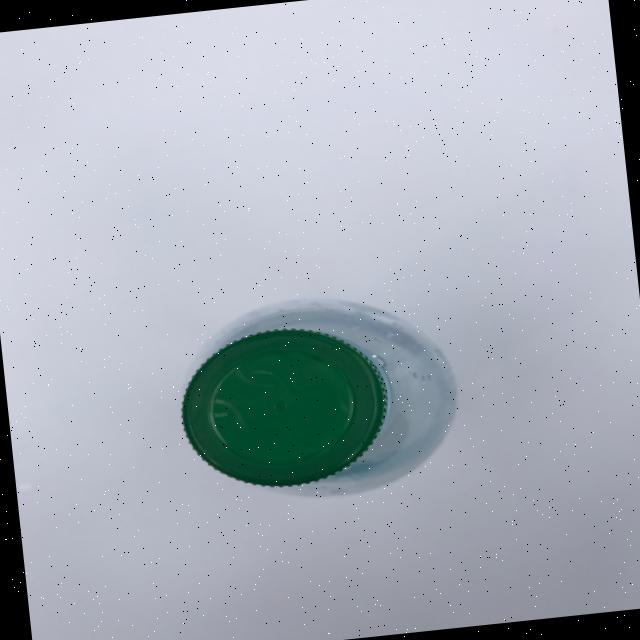plastic: (168, 282, 466, 509)
